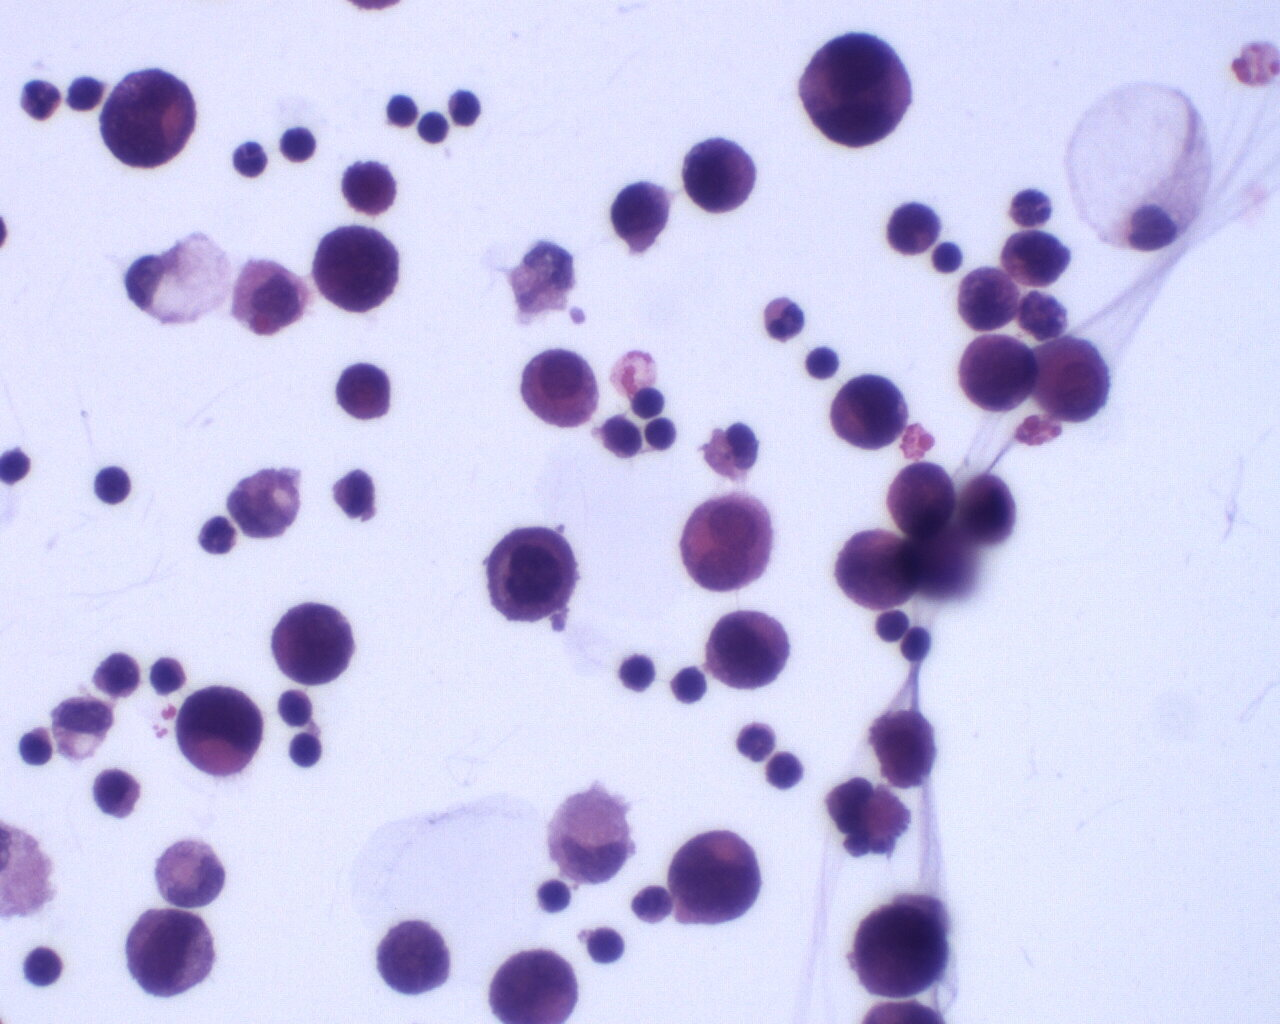ab: (797, 31, 913, 152), (94, 67, 200, 172), (850, 900, 951, 998), (487, 523, 581, 628), (124, 904, 222, 1000), (669, 828, 761, 929), (310, 223, 406, 315), (269, 596, 359, 691), (172, 685, 262, 774), (704, 608, 793, 693), (1030, 334, 1114, 424), (374, 911, 455, 999), (488, 948, 577, 1024), (681, 135, 760, 218), (958, 329, 1035, 414), (832, 373, 911, 453), (886, 459, 959, 541), (869, 707, 942, 789), (956, 469, 1018, 554), (1001, 226, 1073, 289), (956, 264, 1021, 334), (609, 178, 671, 249), (334, 360, 393, 425), (884, 196, 941, 257)
histo: (1067, 73, 1219, 253), (120, 227, 235, 331)
lymph: (21, 945, 66, 991), (584, 923, 631, 967), (616, 651, 659, 695), (284, 732, 328, 772), (93, 463, 134, 505), (385, 90, 424, 131), (871, 605, 912, 643), (630, 383, 668, 423), (537, 877, 572, 915)
meso: (511, 346, 600, 428)
neutro: (13, 72, 65, 125), (757, 294, 811, 340), (195, 511, 241, 561), (731, 719, 781, 765), (229, 137, 270, 179)
